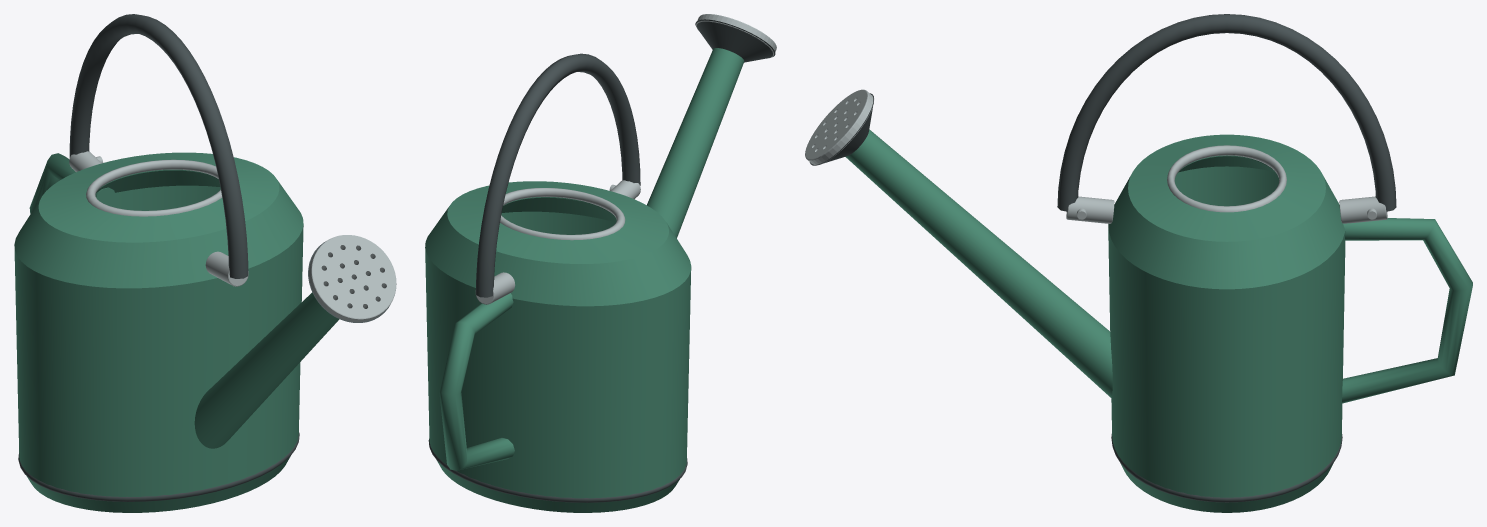
Rendered from city-garden-watering-can.glb.
The picture shows the model from 3 angles, left to right: view 1: azimuth 30°, elevation 25°; view 2: azimuth 150°, elevation 25°; view 3: azimuth 270°, elevation 25°; orthographic projection. The views are drawn at different scales.
Parts seen in each view (by area): view 1: Assembly | Muted green enamel, Assembly | Dark coated steel, Assembly | Satin tool steel; view 2: Assembly | Muted green enamel, Assembly | Dark coated steel, Assembly | Satin tool steel; view 3: Assembly | Muted green enamel, Assembly | Dark coated steel, Assembly | Satin tool steel.
Boxes of the visible parts, x1,y1,x2,y2 form: Assembly | Muted green enamel: (14, 152, 339, 512); Assembly | Dark coated steel: (18, 14, 389, 501); Assembly | Satin tool steel: (69, 151, 396, 322); Assembly | Muted green enamel: (425, 48, 744, 512); Assembly | Dark coated steel: (428, 19, 775, 502); Assembly | Satin tool steel: (475, 14, 776, 304); Assembly | Muted green enamel: (845, 129, 1472, 512); Assembly | Dark coated steel: (809, 14, 1396, 502); Assembly | Satin tool steel: (805, 89, 1387, 223).
Bounding box in the file's own units: 0.3 × 0.479 × 0.6579.
